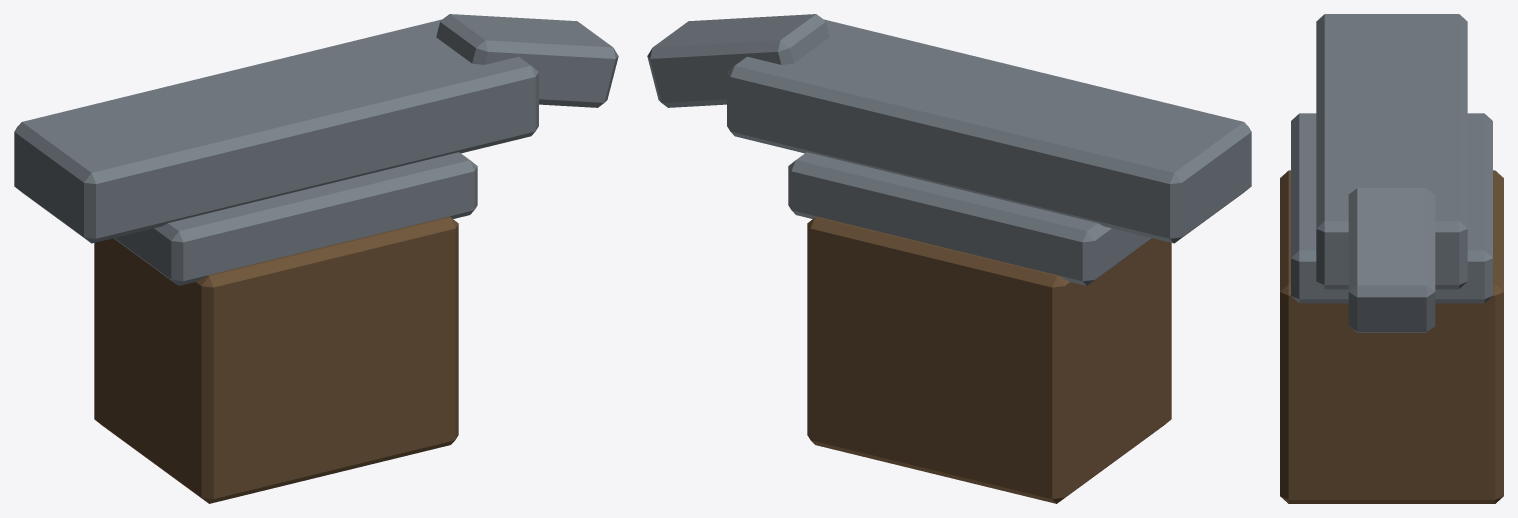
File: town_forge_anvil.lod1.glb
3 views of the same model, side by side, from view 1: azimuth 30°, elevation 25°; view 2: azimuth 150°, elevation 25°; view 3: azimuth 270°, elevation 25° (orthographic). The views are drawn at different scales.
Bounding box in the file's own units: 1.29 × 0.8104 × 0.4712.
